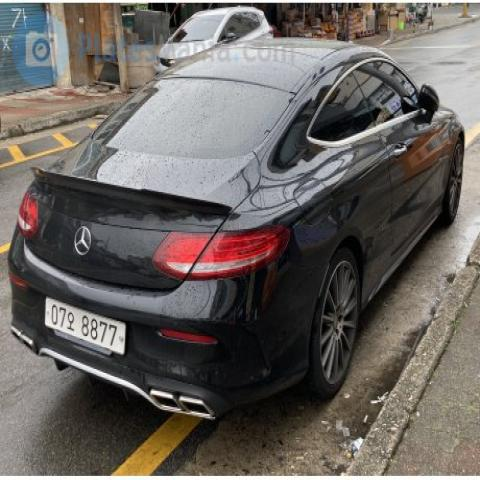LP: (31, 282, 137, 361)
